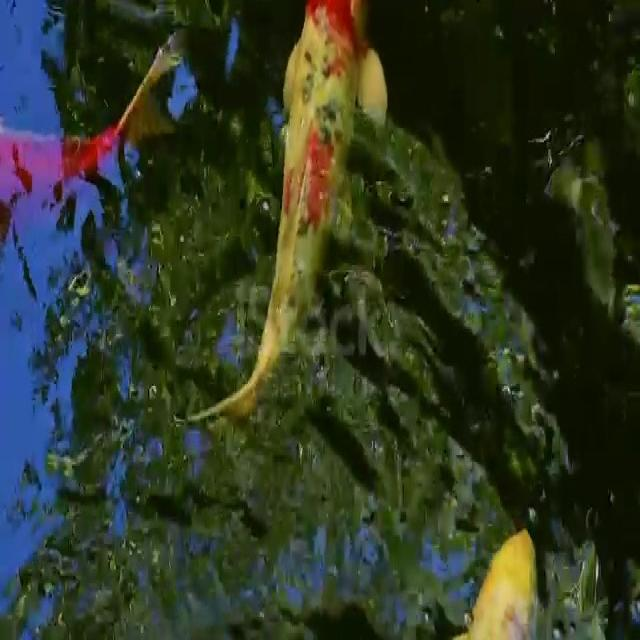fish: (266, 0, 374, 396)
